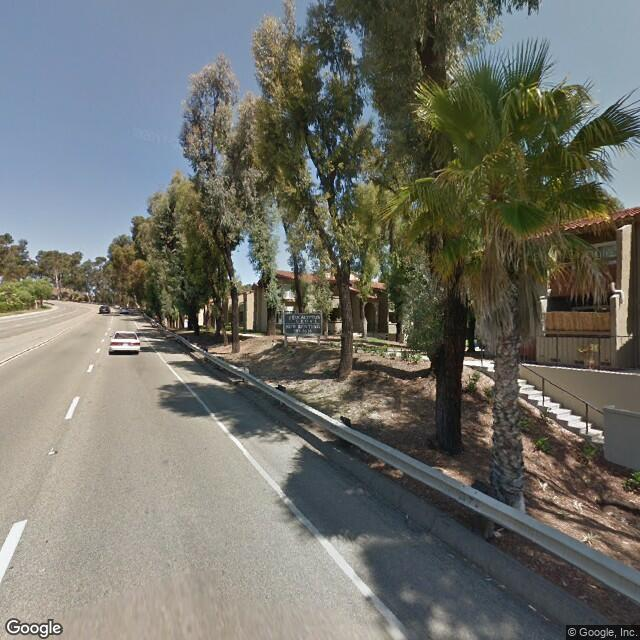litter: (402, 509, 410, 522), (528, 602, 538, 612), (492, 529, 503, 538)
